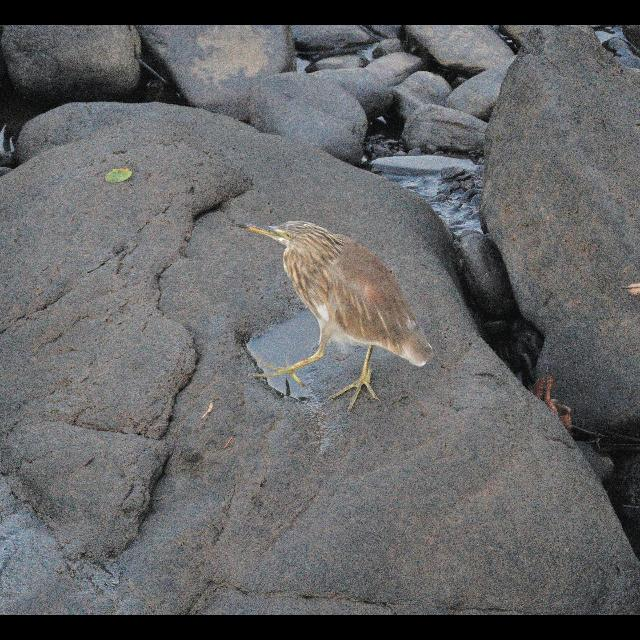egret: (229, 216, 435, 418)
